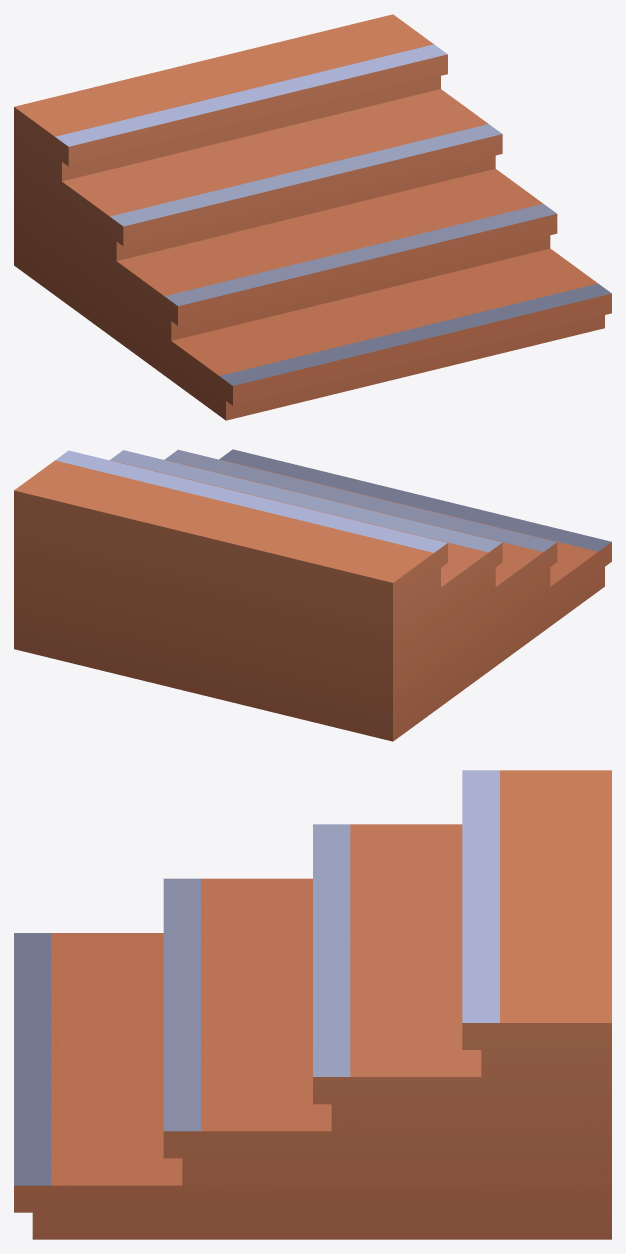
The model's file is steps.glb.
3 renders of one model, top to bottom at view 1: azimuth 30°, elevation 25°; view 2: azimuth 150°, elevation 25°; view 3: azimuth 270°, elevation 25°, orthographic. The views are drawn at different scales.
Visible parts, largest first — view 1: steps; view 2: steps; view 3: steps.
Boxes of the visible parts, x1,y1,x2,y2 form: steps: [14, 14, 611, 420]; steps: [14, 449, 611, 741]; steps: [14, 770, 611, 1239].
Bounding box in the file's own units: 1 × 0.4 × 1.
1 material, 1 textured.
